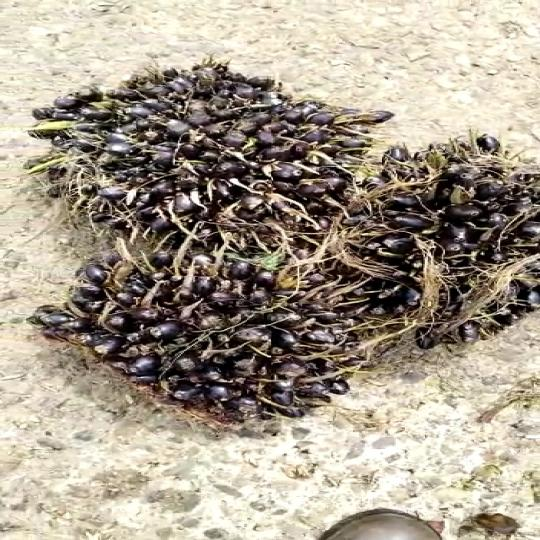mentah: (47, 58, 365, 264), (66, 250, 381, 454), (301, 125, 540, 353)
